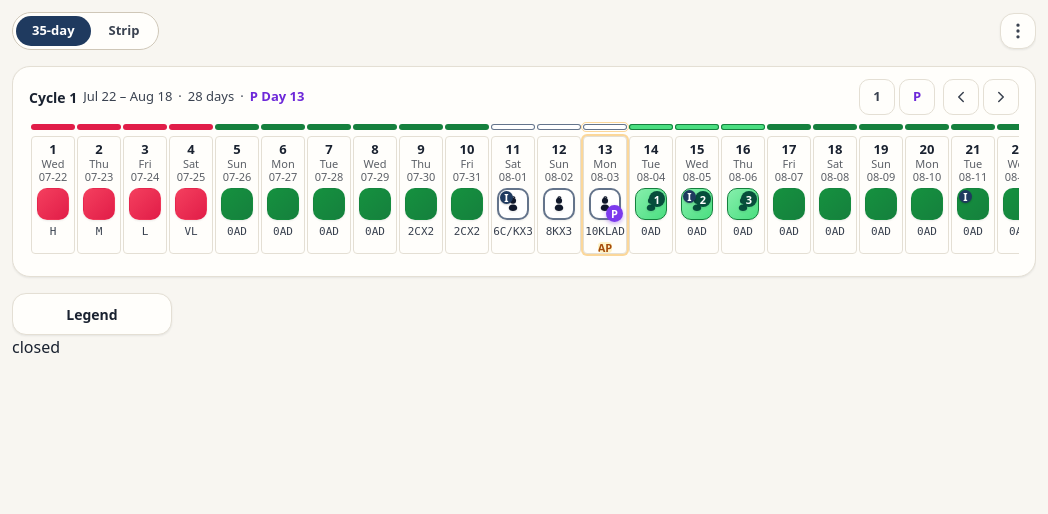
Scenario: ChartRow interactions › shows only the selected cycle and switches the view mode
Expected: the number of headings "Cycle 1" is 1, [29,86,77,108]
Click the button "Strip" at (124, 31), box [92,16,155,46]
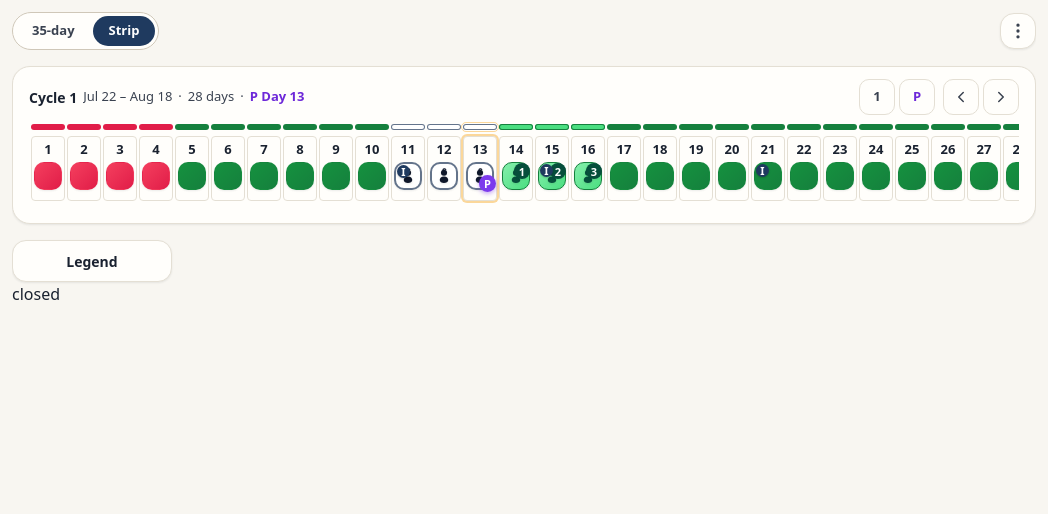
Click the button "35-day" at (53, 31), box [16,16,90,46]
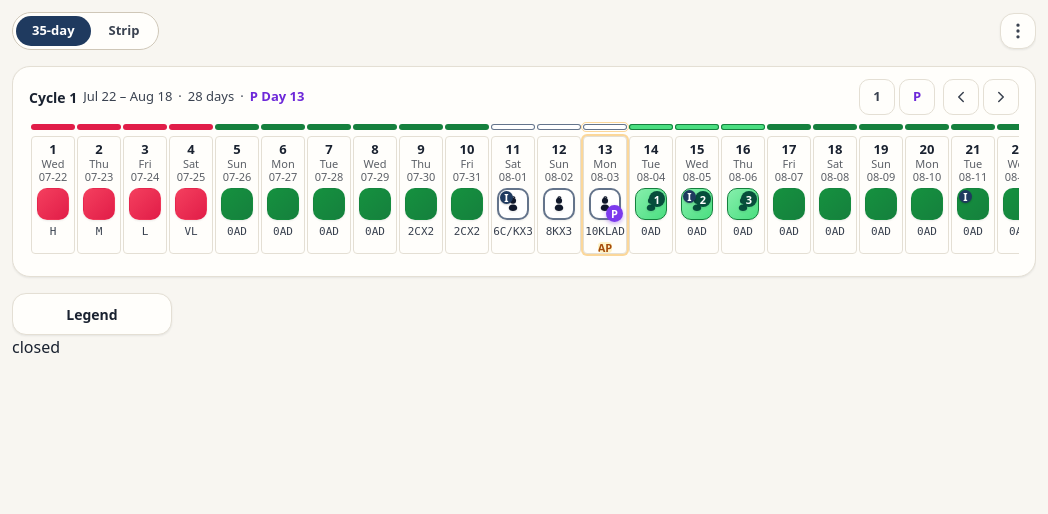
Click the button "Legend" at (92, 314), box [12,293,172,335]
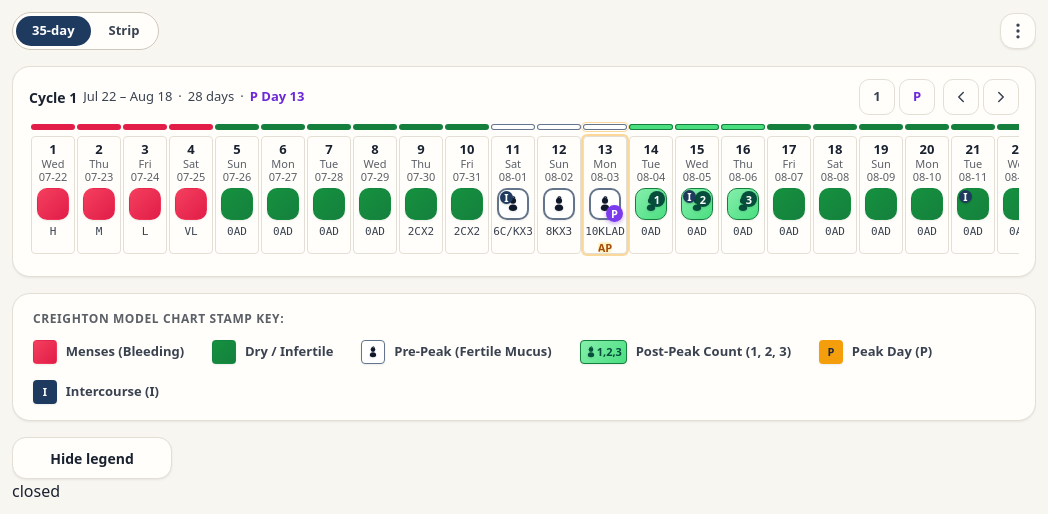
Expected: the button "Hide legend" is shown, [12,437,172,479]
